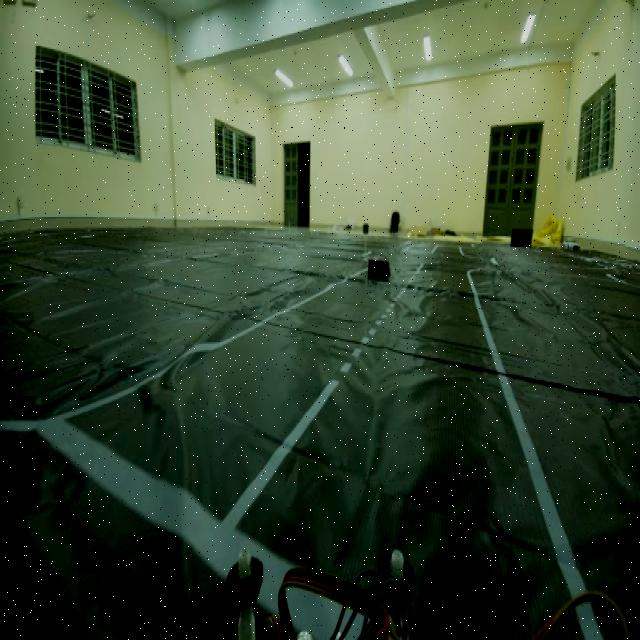roadblock: (364, 255, 392, 287)
